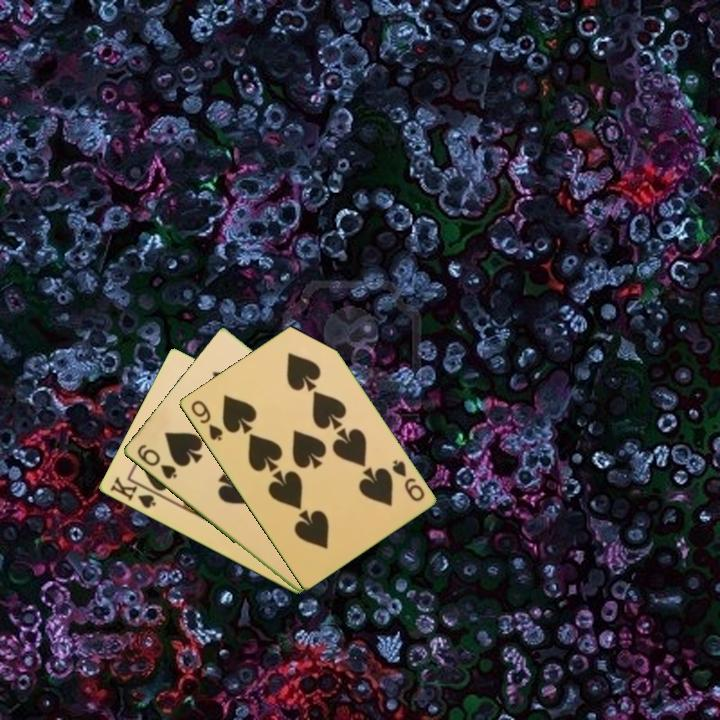6s: (133, 441, 180, 482)
9s: (388, 456, 427, 504), (187, 397, 225, 444)
Ks: (106, 473, 163, 512)
